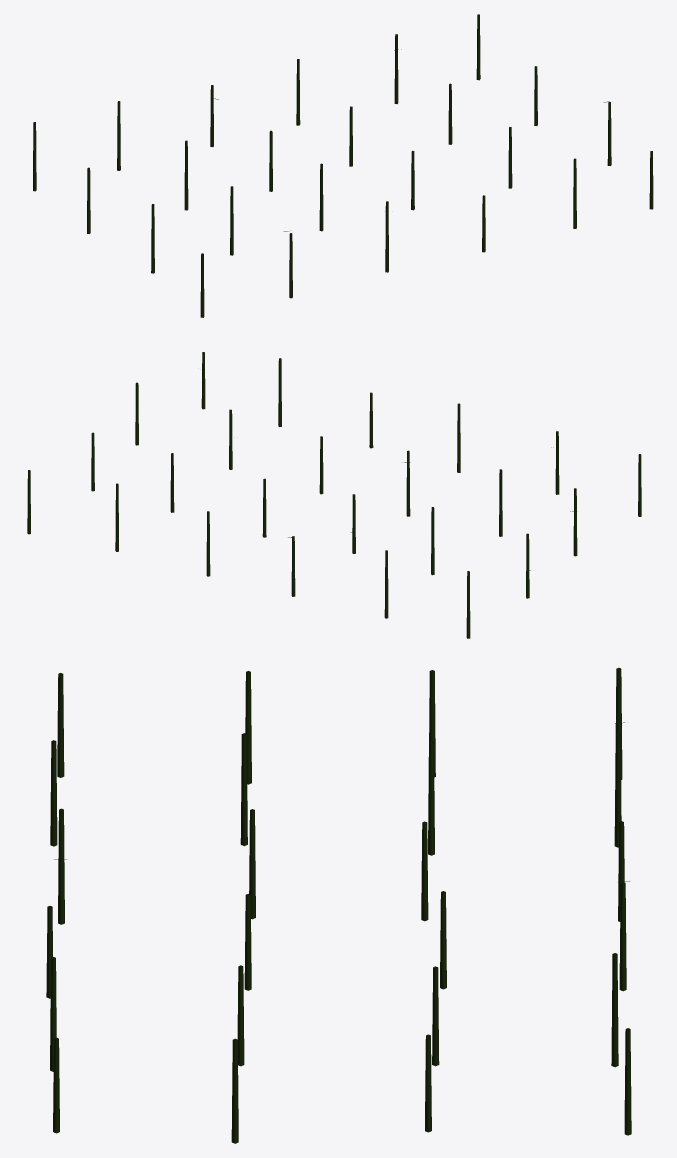
Rendered from fm_pepper_2.glb.
3 renders of one model, top to bottom at view 1: azimuth 30°, elevation 25°; view 2: azimuth 150°, elevation 25°; view 3: azimuth 270°, elevation 25°, orthographic. The views are drawn at different scales.
Parts seen in each view (by area): view 1: fm_pepper_2; view 2: fm_pepper_2; view 3: fm_pepper_2.
Boxes of the visible parts, x1,y1,x2,y2 form: fm_pepper_2: (33,14,653,317); fm_pepper_2: (27,352,641,638); fm_pepper_2: (46,667,631,1143).
Size of the model in its own units: 3.66 by 0.4931 by 2.55.
